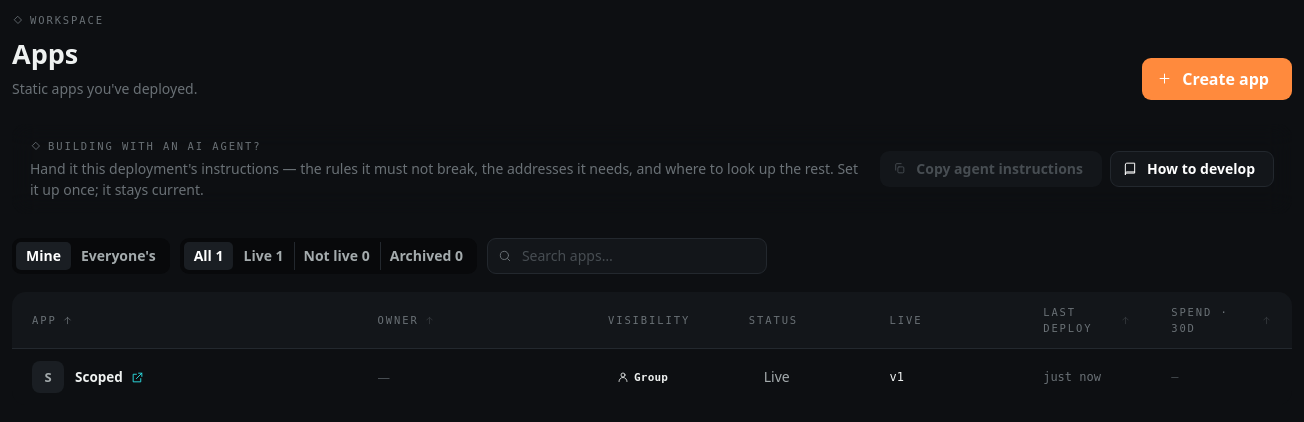
AppsListPage › visibility column › says why the names are missing when the directory is unavailable
The width and height of the screenshot is (1304, 422).
expect the text "Scoped" is shown: met, box top-left (75, 367), bottom-right (123, 388)
expect the cell "Group" is shown: met, box top-left (588, 349), bottom-right (729, 406)
Hover over the element showing "Group".
mouse_move(643, 377)  # box top-left (617, 371), bottom-right (668, 384)
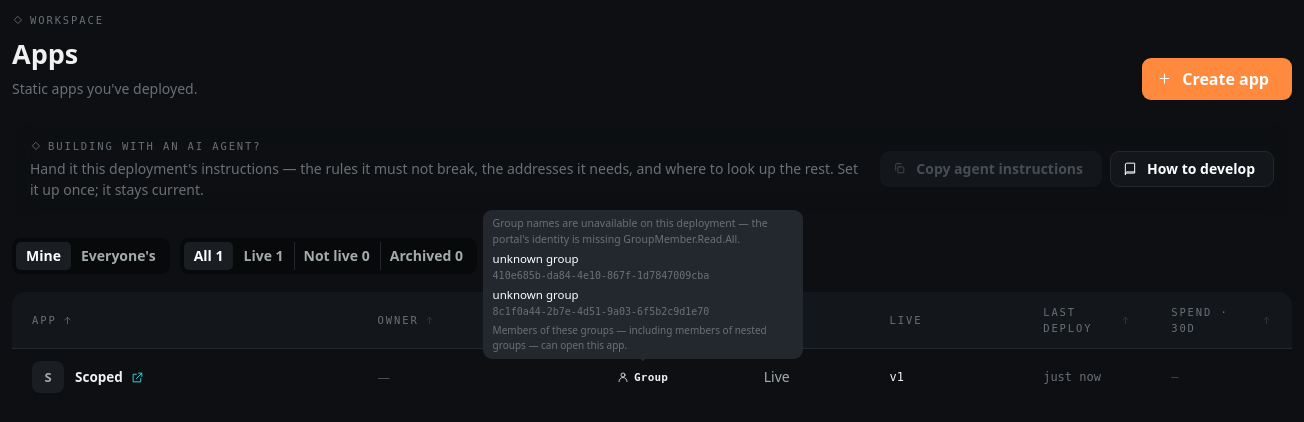
expect the text "GroupMember.Read.All" is shown: met, box top-left (493, 216), bottom-right (768, 246)
expect the text "unknown group" is shown 2 times: met, box top-left (493, 251), bottom-right (579, 266); top-left (493, 287), bottom-right (579, 302)
expect the text "410e685b-da84-4e10-867f-1d7847009cba" is shown: met, box top-left (493, 270), bottom-right (709, 281)
